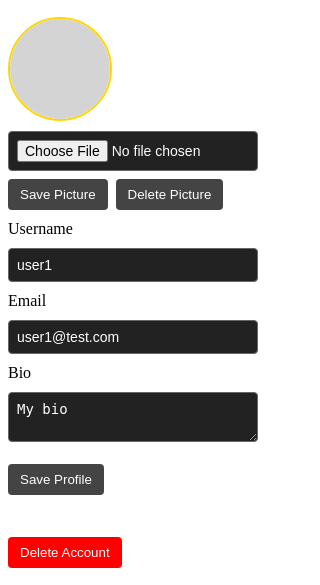
ProfileSidebar component › deletes profile picture successfully
Click the button "Delete Picture": (169, 194) left=116, top=179, right=223, bottom=210
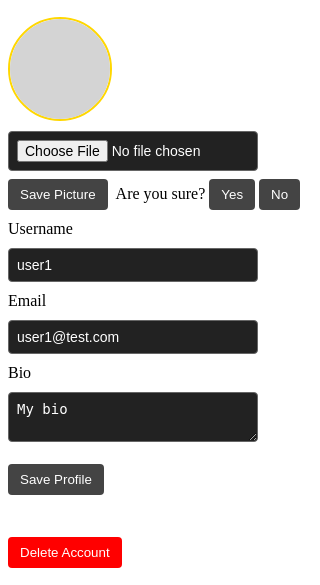
Click the button "Yes": (232, 194) left=209, top=179, right=255, bottom=210
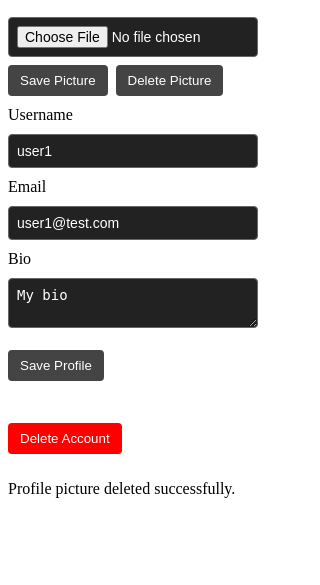
Expected: the text "Profile picture deleted successfully." is shown, left=8, top=480, right=235, bottom=497
Expected: the picture with alt text "Profile" is gone
